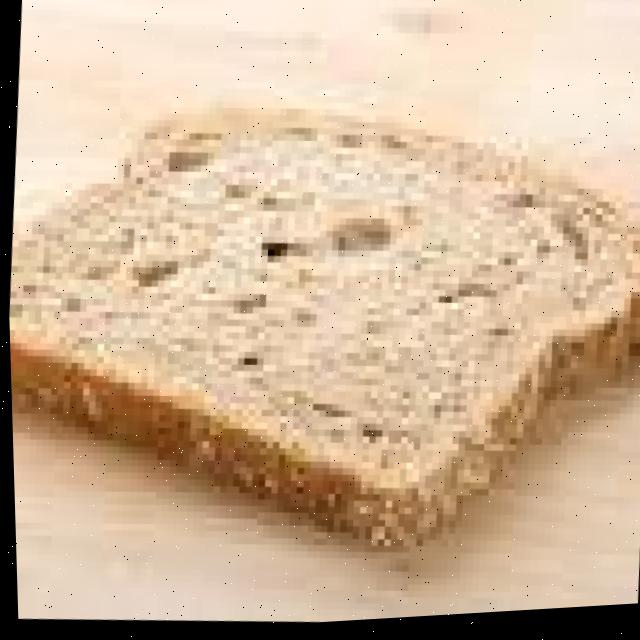Bread: (10, 116, 618, 494)
